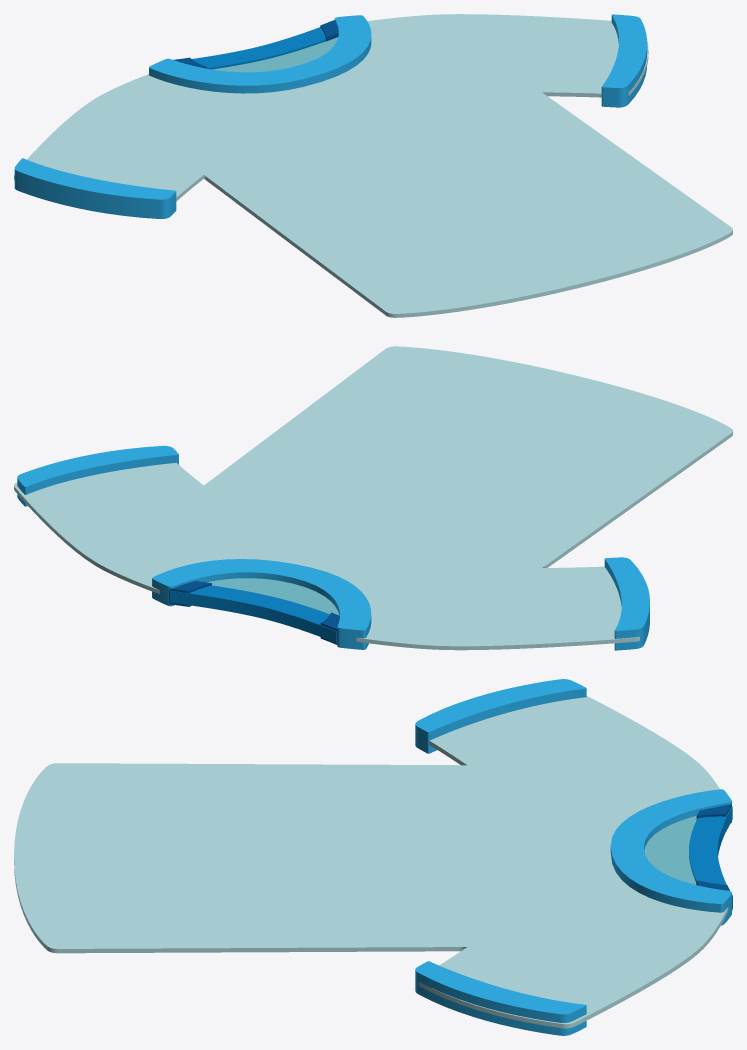
File: emoji_u1f455.glb
The picture shows the model from 3 angles, top to bottom: view 1: azimuth 30°, elevation 25°; view 2: azimuth 150°, elevation 25°; view 3: azimuth 270°, elevation 25°; orthographic projection. The views are drawn at different scales.
Parts seen in each view (by area): view 1: emoji_u1f455; view 2: emoji_u1f455; view 3: emoji_u1f455.
Part boxes in pixels (left/top/right/bottom): emoji_u1f455: left=14, top=14, right=732, bottom=317; emoji_u1f455: left=14, top=346, right=732, bottom=650; emoji_u1f455: left=14, top=679, right=732, bottom=1035.
Size of the model in its own units: 0.0336 by 0.001 by 0.0304.
